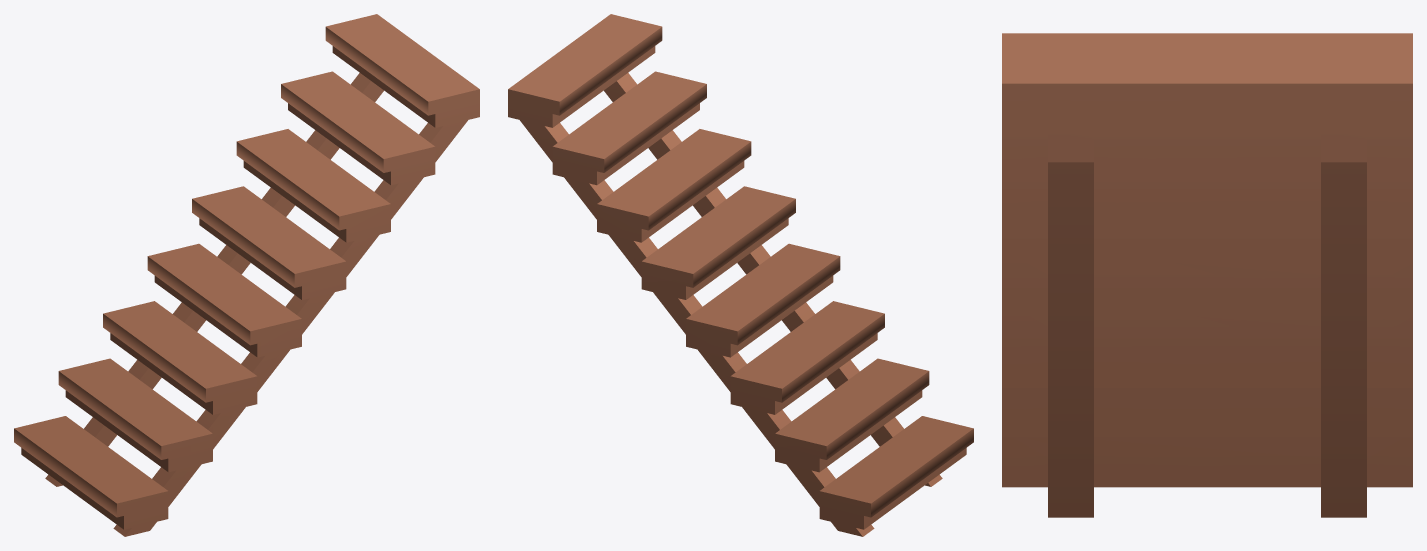
The model's file is town-stairs-wood.glb.
3 views of the same model, side by side, from view 1: azimuth 30°, elevation 25°; view 2: azimuth 150°, elevation 25°; view 3: azimuth 270°, elevation 25° (orthographic). The views are drawn at different scales.
Parts seen in each view (by area): view 1: town-stairs-wood; view 2: town-stairs-wood; view 3: town-stairs-wood.
Part boxes in pixels (bbox=[...]): town-stairs-wood: bbox=[14, 14, 479, 536]; town-stairs-wood: bbox=[508, 14, 973, 536]; town-stairs-wood: bbox=[1002, 33, 1412, 517].
Bounding box in the file's own units: 1.02 × 1 × 0.5.
